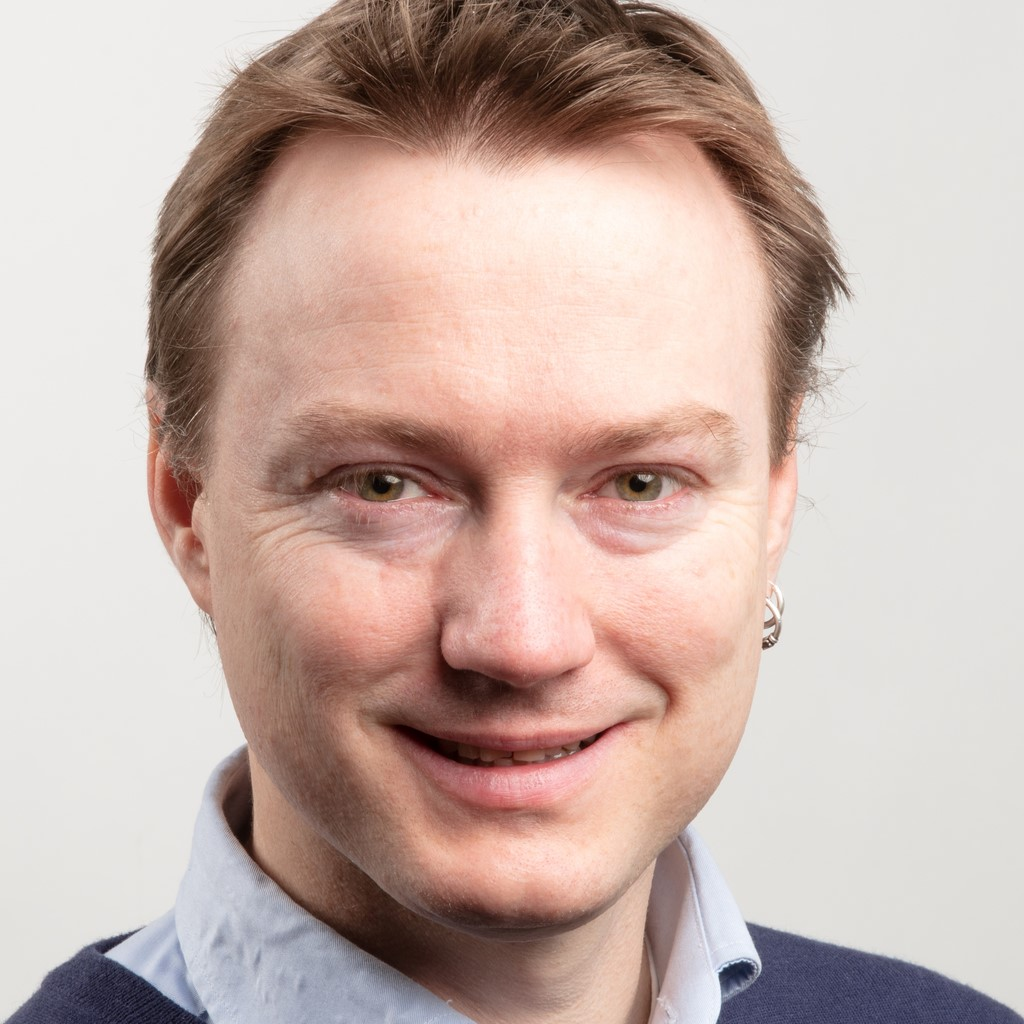sin_mascara: (191, 77, 789, 947)
